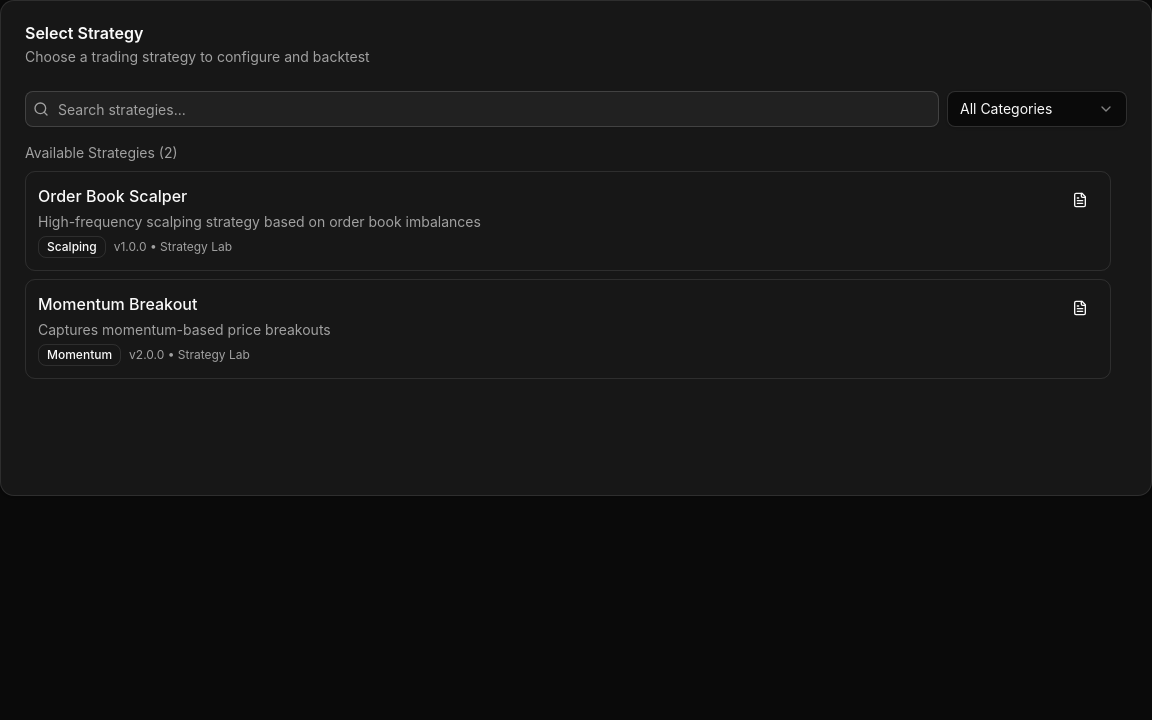
StrategySelector › filters strategies by search term
Type "momentum" into the field with placeholder "Search strategies..." at (482, 109), box [25,91,939,127]
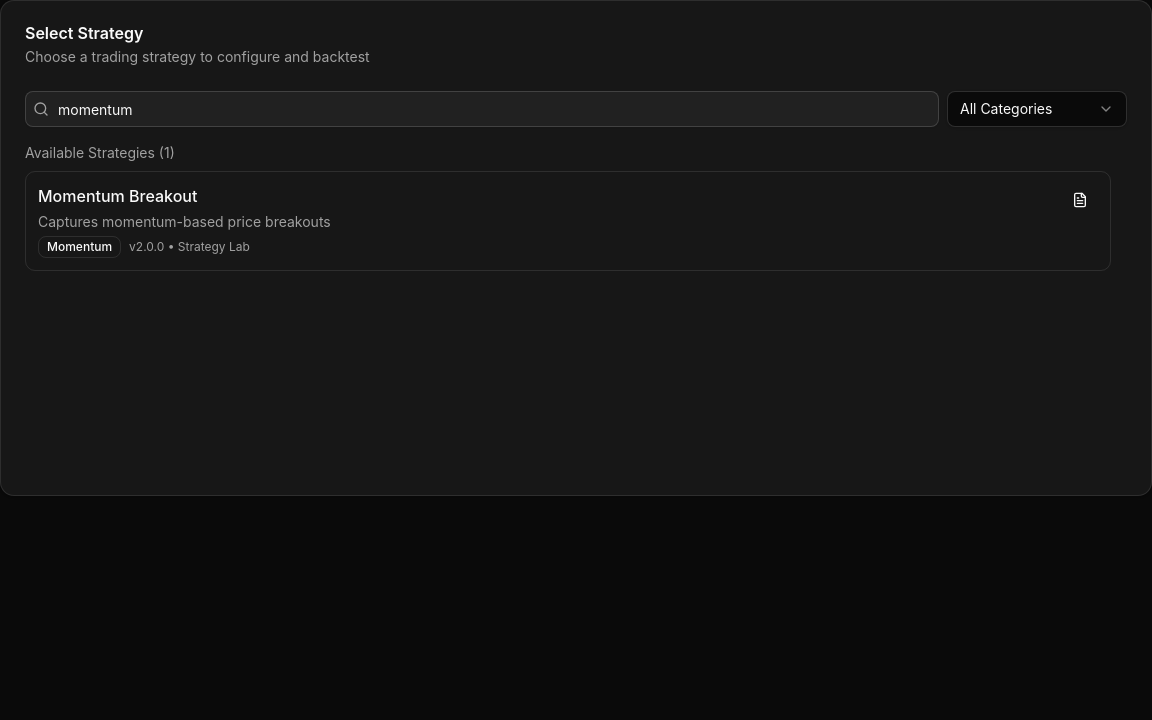
expect the text "Momentum Breakout" is shown: met, box [38,186,197,206]
expect the text "Order Book Scalper" is gone: met
